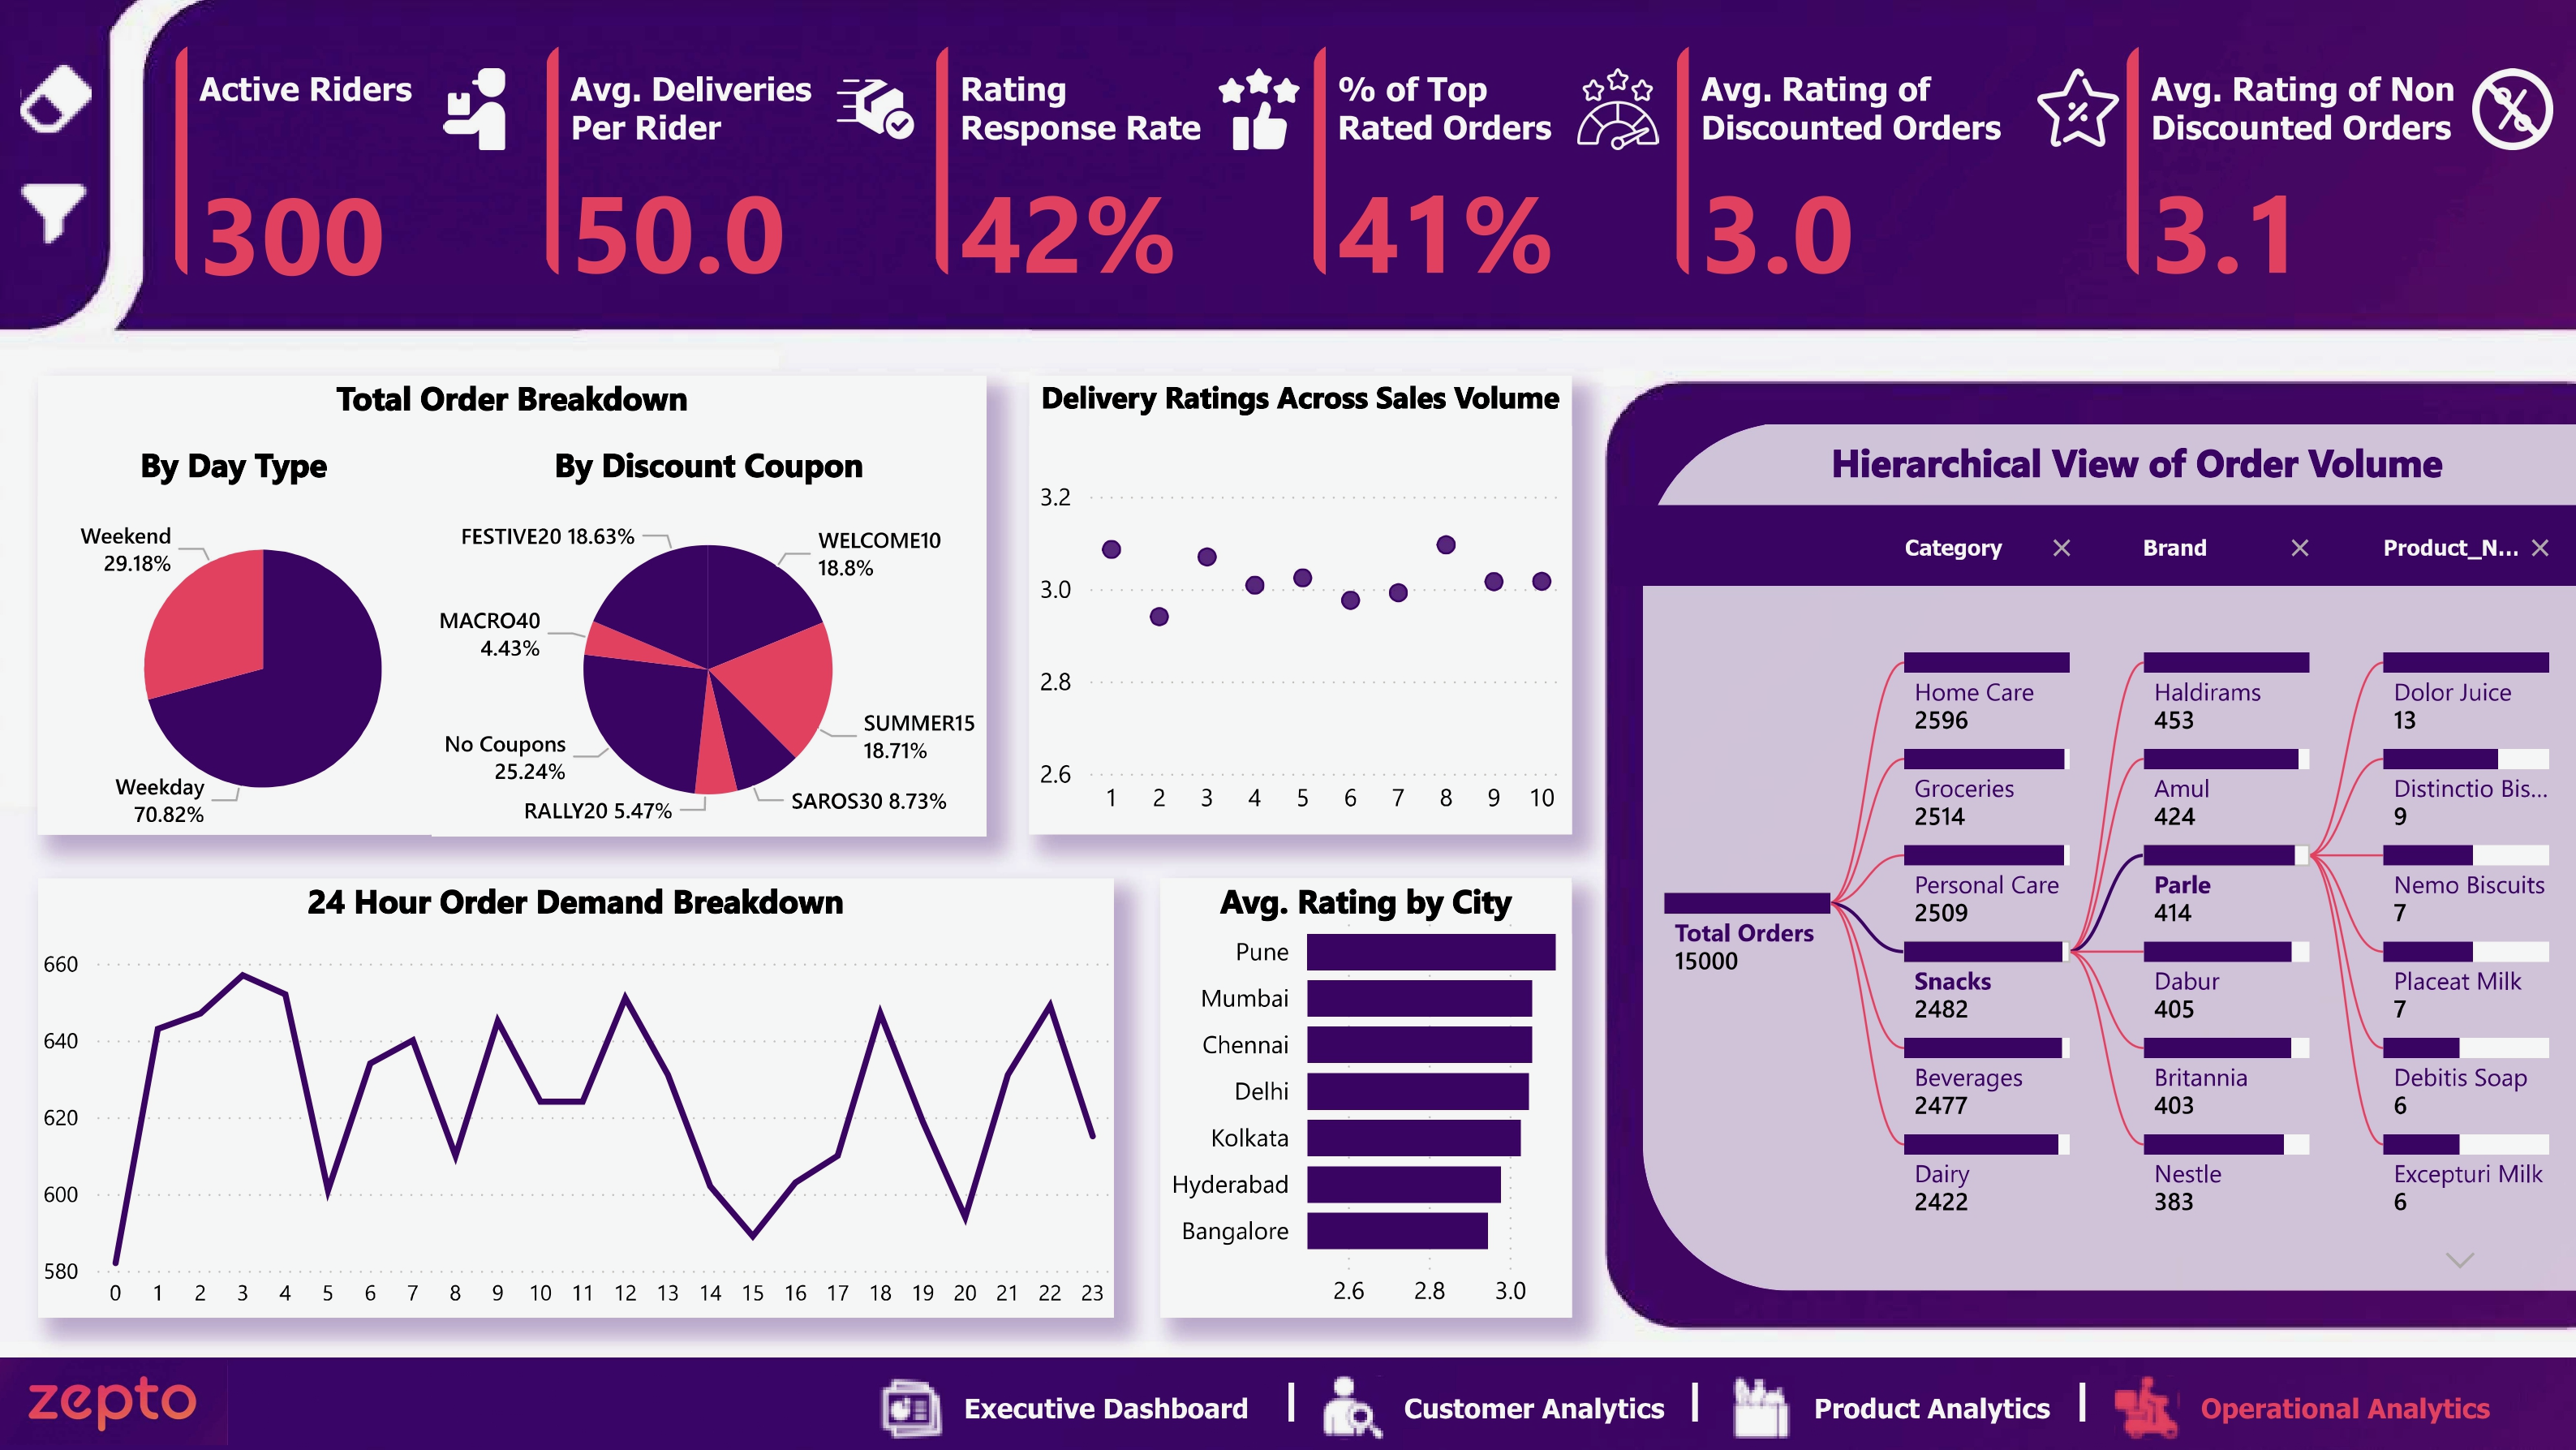

Layout of this report page (visuals, bound fields, positions):
{"tool":"powerbi","page":{"name":"Operational Analytics","canvas":[1280,720],"ordinal":3},"visuals":[{"type":"image","title":"Top Bar","box":[0,0,1280,665],"z":0},{"type":"image","title":"Bottom Bar","box":[0,673.3,1280,46.7],"z":1000},{"type":"image","title":"Zepto Logo","box":[0,672.9,114.3,44.3],"z":2000},{"type":"actionButton","title":"Clear Filters Button","box":[7.1,21.4,43.9,56.1],"z":3000},{"type":"actionButton","title":"Filter Button","box":[5.7,77.1,44.3,57.1],"z":4000},{"type":"cardVisual","title":"Active Riders Card","fields":{"Data":["Measures Table.Active Riders"]},"box":[83.3,23.3,195,120],"z":5000},{"type":"cardVisual","title":"Avg. Deliveries Per Rider Card","fields":{"Data":["Measures Table.Avg. Deliveries Per Rider"]},"box":[266.7,23.3,205,120],"z":6000},{"type":"shape","title":"Total Order Breakdown","box":[20,187.1,470,227.1],"z":7000},{"type":"cardVisual","title":"Rating Response Rate","fields":{"Data":["Measures Table.Rating Response Rate"]},"box":[460,23.3,201.7,120],"z":8000},{"type":"shape","title":"Avg. Rating by City","box":[575.7,435.7,204.3,217.1],"z":9000},{"type":"cardVisual","title":"% of Top Rated Orders Card","fields":{"Data":["Measures Table.% of Top Rated Orders"]},"box":[646.7,23.3,193.3,120],"z":10000},{"type":"cardVisual","title":"Avg. Rating of Non Discounted Orders Card","fields":{"Data":["Measures Table.Avg. Rating Non Discounted Orders"]},"box":[1050,22.9,230,120],"z":11000},{"type":"cardVisual","title":"Avg. Rating of Discounted Orders Card","fields":{"Data":["Measures Table.Avg. Rating Discounted Orders"]},"box":[826.7,23.3,241.7,120],"z":12000},{"type":"shape","title":"Delivery Ratings Across Sales Volume","box":[511.4,187.1,268.6,227.1],"z":13000},{"type":"shape","title":"By Day Type","box":[20,220,194.3,194.3],"z":14000},{"type":"shape","title":"Decomposition Tree BG","box":[815,210,465,430],"z":15000},{"type":"shape","title":"24 Hour Order Demand Breakdown","box":[20,435.7,532.9,217.1],"z":16000},{"type":"decompositionTreeVisual","fields":{"Analyze":["Measures Table.Total Orders"],"ExplainBy":["Products.Category","Products.Brand","Products.Product_Name"]},"box":[801.4,251.4,478.6,388.6],"z":17000},{"type":"clusteredBarChart","fields":{"Category":["Customers.State"],"Y":["Measures Table.Average Delivery Rating"]},"box":[575.7,445.7,204.3,207.1],"z":18000},{"type":"pieChart","fields":{"Category":["Orders.Order Day Category"],"Y":["Measures Table.Total Orders"]},"box":[20,251.4,222.9,162.9],"z":19000},{"type":"shape","title":"By Discount Coupon","box":[214.7,219.6,274.8,195.1],"z":20000},{"type":"scatterChart","fields":{"Y":["Measures Table.Average Delivery Rating"],"X":["Sum(Orders.Qty)"]},"box":[511.4,210,268.6,204.3],"z":21000},{"type":"lineChart","fields":{"Category":["Sum(Orders.HOUR(24))"],"Y":["Measures Table.Total Orders"]},"box":[20,468.6,532.9,184.3],"z":22000},{"type":"pieChart","fields":{"Y":["Measures Table.Total Orders"],"Category":["Orders.Coupon"]},"box":[214.3,251.4,275.7,162.9],"z":23000},{"type":"textbox","box":[881.4,214.3,357.1,52.9],"z":24000},{"type":"actionButton","title":"Customer Navigation","box":[652.2,677.6,177.6,40.3],"z":26000},{"type":"actionButton","title":"Exec Dashboard Navigation","box":[432.8,677.6,191,40.3],"z":27000},{"type":"actionButton","title":"Product Navigation","box":[853.7,677.6,167.2,40.3],"z":28000},{"type":"actionButton","title":"Operations Navigation","box":[1044.8,677.6,194,40.3],"z":29000},{"type":"textbox","title":"Divider 3","box":[1020.9,673.1,23.9,44.8],"z":30000},{"type":"textbox","title":"Divider 1","box":[613.4,673.1,55.2,46.3],"z":31000},{"type":"textbox","title":"Divider 2","box":[817.9,673.1,46.3,46.3],"z":32000}]}

Visuals, with their boxes in screenshot pixels (x1, y1, x2, y2), scaled from the page's 1280x720 canvas onto the 2576x1450 screenshot:
"Top Bar" image: 0, 0, 2575, 1339
"Bottom Bar" image: 0, 1356, 2575, 1449
"Zepto Logo" image: 0, 1355, 230, 1444
"Clear Filters Button" actionButton: 15, 43, 103, 156
"Filter Button" actionButton: 11, 155, 101, 270
"Active Riders Card" cardVisual: 168, 47, 560, 289
"Avg. Deliveries Per Rider Card" cardVisual: 537, 47, 949, 289
"Total Order Breakdown" shape: 41, 376, 986, 834
"Rating Response Rate" cardVisual: 926, 47, 1331, 289
"Avg. Rating by City" shape: 1159, 877, 1570, 1314
"% of Top Rated Orders Card" cardVisual: 1301, 47, 1691, 289
"Avg. Rating of Non Discounted Orders Card" cardVisual: 2113, 46, 2575, 288
"Avg. Rating of Discounted Orders Card" cardVisual: 1664, 47, 2150, 289
"Delivery Ratings Across Sales Volume" shape: 1030, 376, 1570, 834
"By Day Type" shape: 41, 443, 432, 834
"Decomposition Tree BG" shape: 1641, 423, 2575, 1289
"24 Hour Order Demand Breakdown" shape: 41, 877, 1112, 1314
decompositionTreeVisual - Measures Table.Total Orders x Products.Category: 1613, 506, 2575, 1289
clusteredBarChart - Customers.State x Measures Table.Average Delivery Rating: 1159, 897, 1570, 1314
pieChart - Orders.Order Day Category x Measures Table.Total Orders: 41, 506, 489, 834
"By Discount Coupon" shape: 432, 442, 985, 835
scatterChart - Measures Table.Average Delivery Rating x Sum(Orders.Qty): 1030, 423, 1570, 834
lineChart - Sum(Orders.HOUR(24)) x Measures Table.Total Orders: 41, 944, 1112, 1314
pieChart - Measures Table.Total Orders x Orders.Coupon: 432, 506, 986, 834
textbox: 1774, 432, 2492, 538
"Customer Navigation" actionButton: 1313, 1365, 1670, 1446
"Exec Dashboard Navigation" actionButton: 871, 1365, 1255, 1446
"Product Navigation" actionButton: 1718, 1365, 2054, 1446
"Operations Navigation" actionButton: 2103, 1365, 2493, 1446
"Divider 3" textbox: 2054, 1356, 2103, 1446
"Divider 1" textbox: 1235, 1356, 1345, 1449
"Divider 2" textbox: 1646, 1356, 1740, 1449
